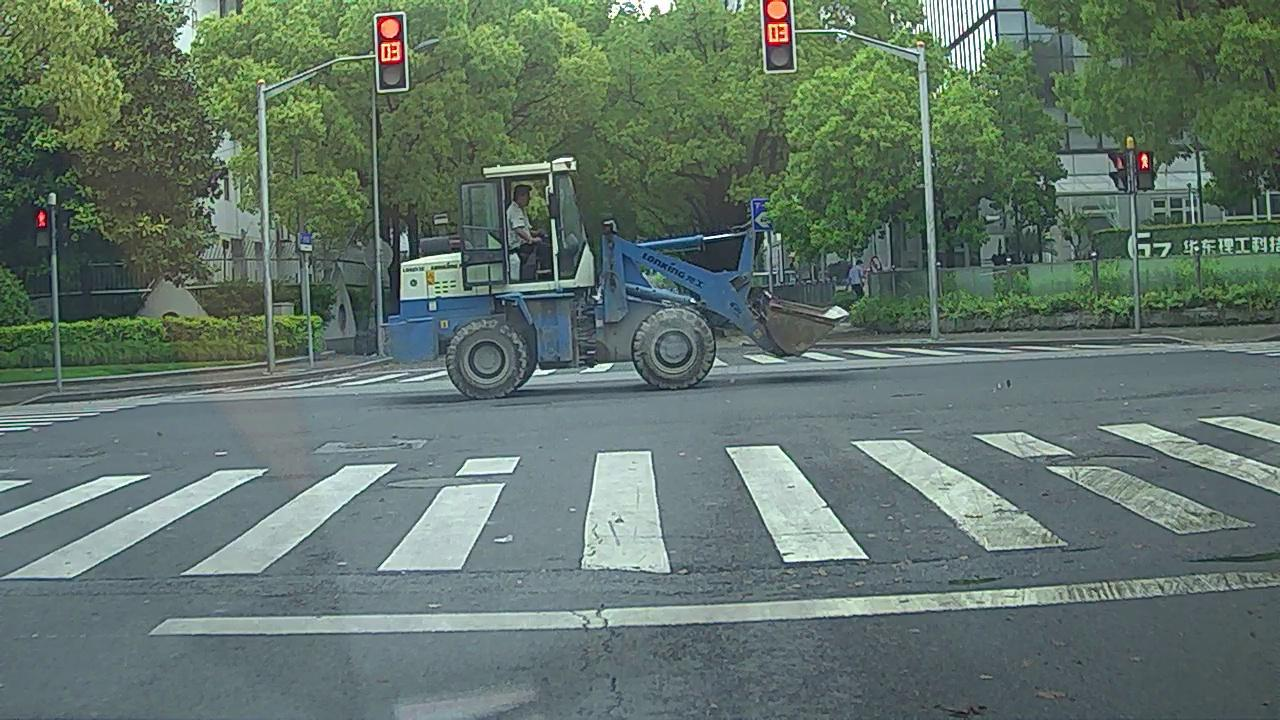traffic_light: (377, 14, 407, 93), (761, 1, 794, 70)
